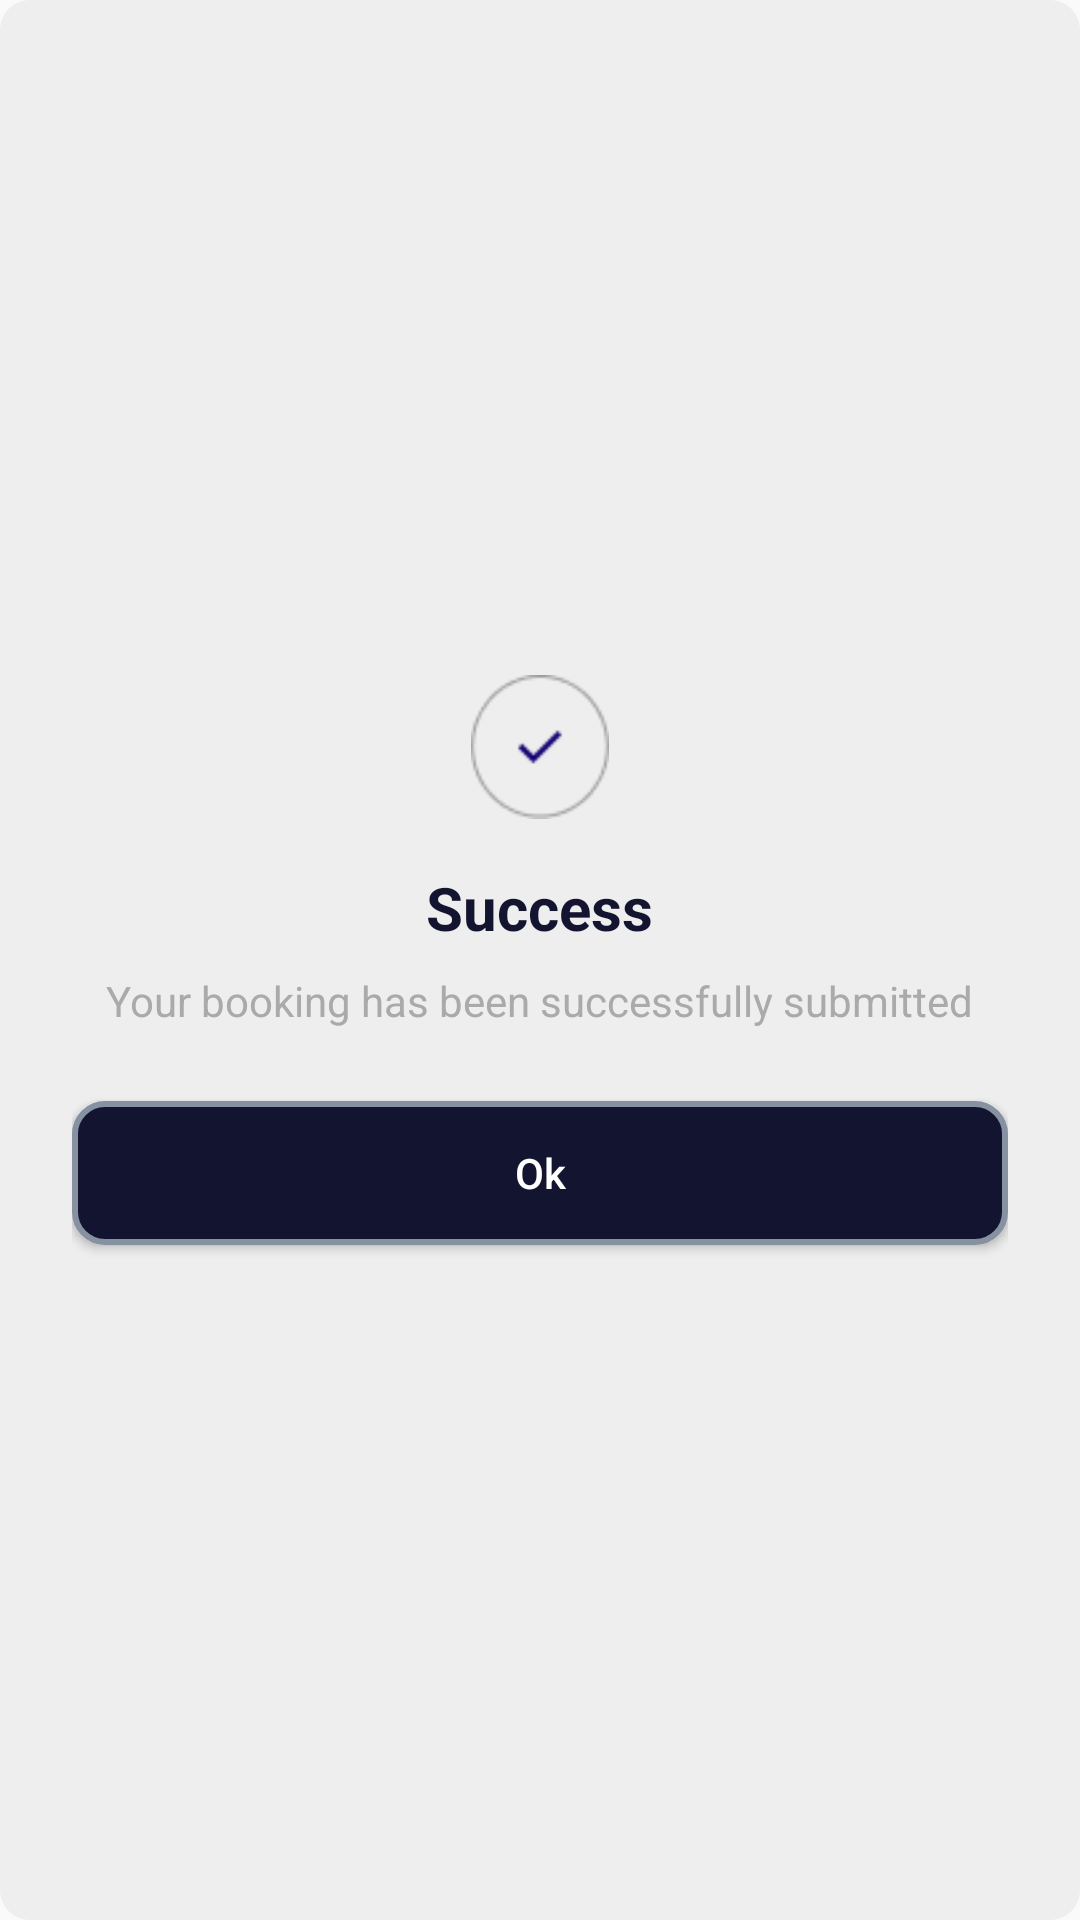

Where icons sit on this 1080px×1920px app screen, as (x1, y1, x2, y2):
check circle: (471, 675, 609, 819)
